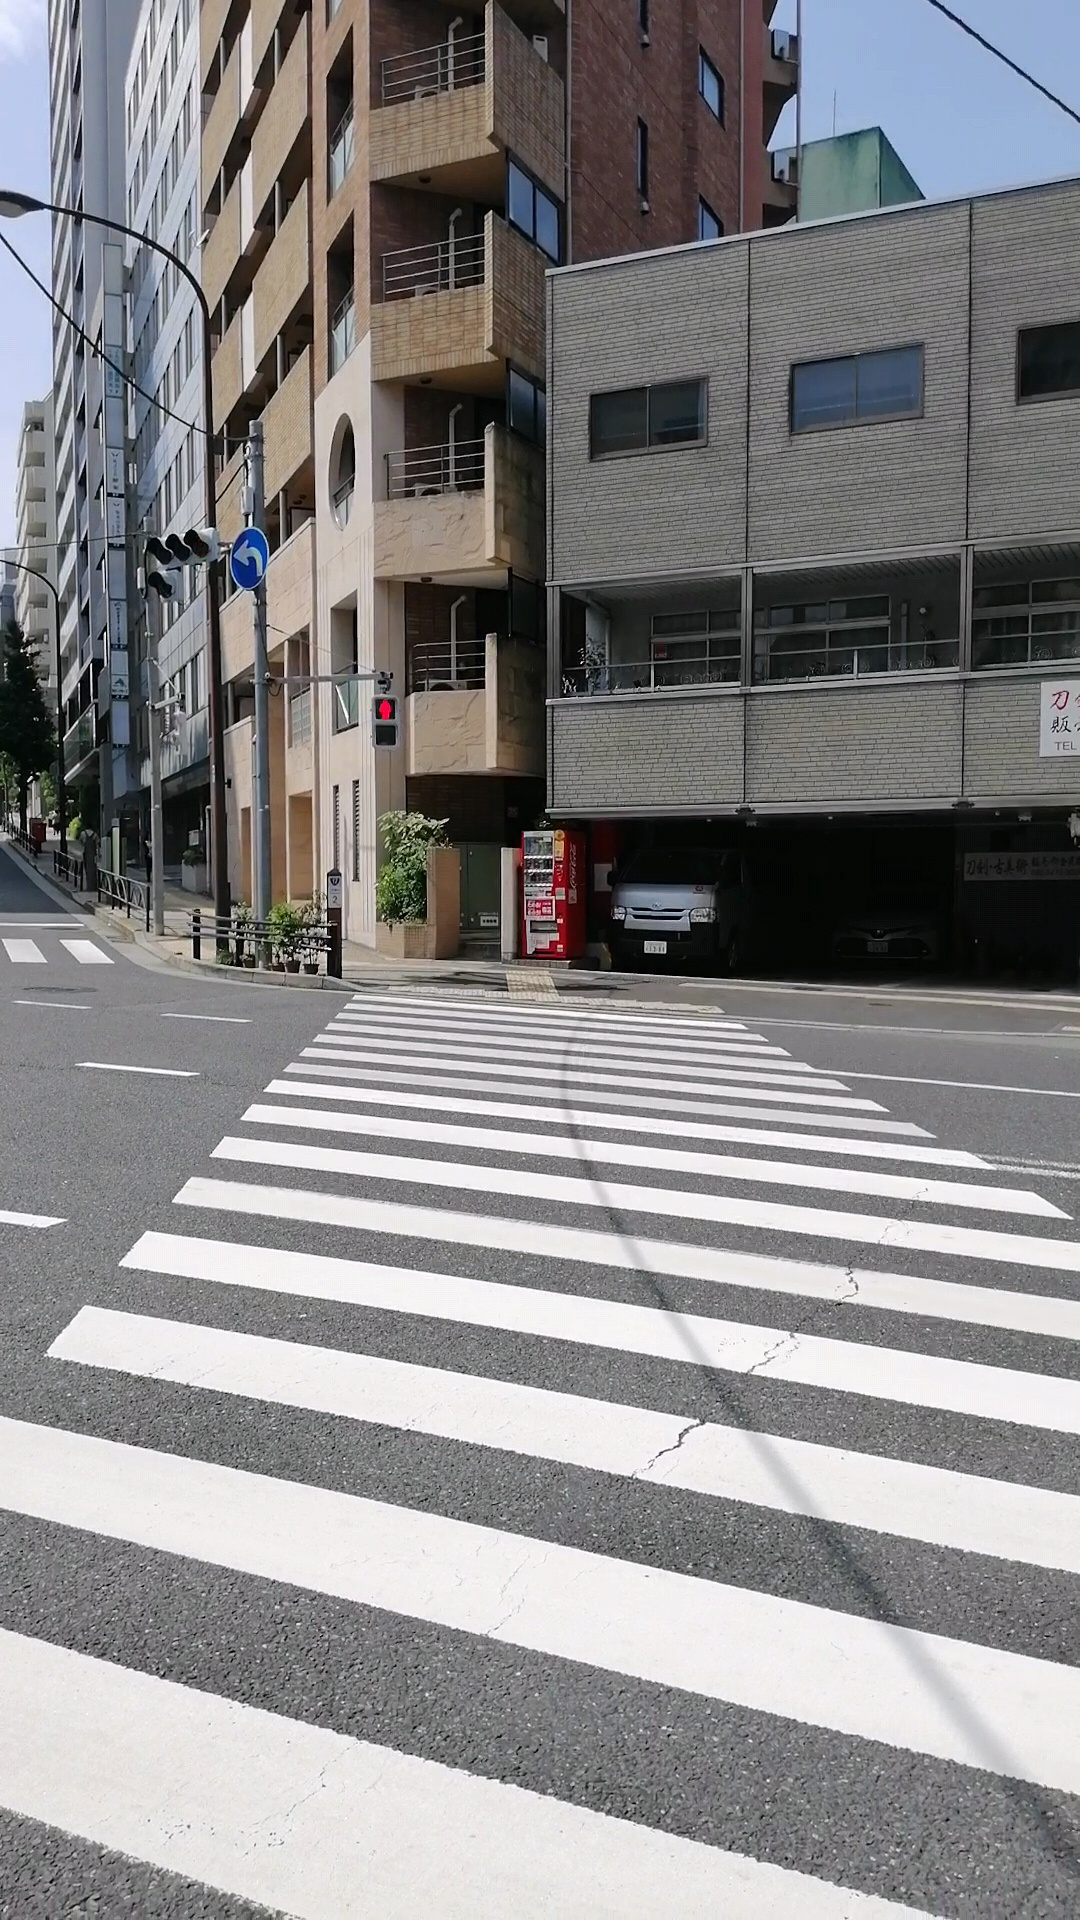red: (368, 694, 400, 753)
